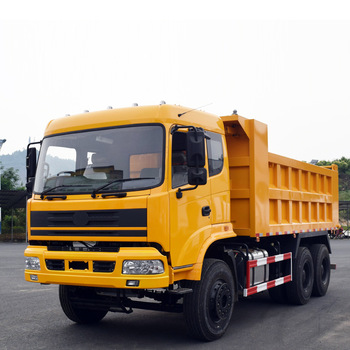truck: (22, 100, 341, 342)
